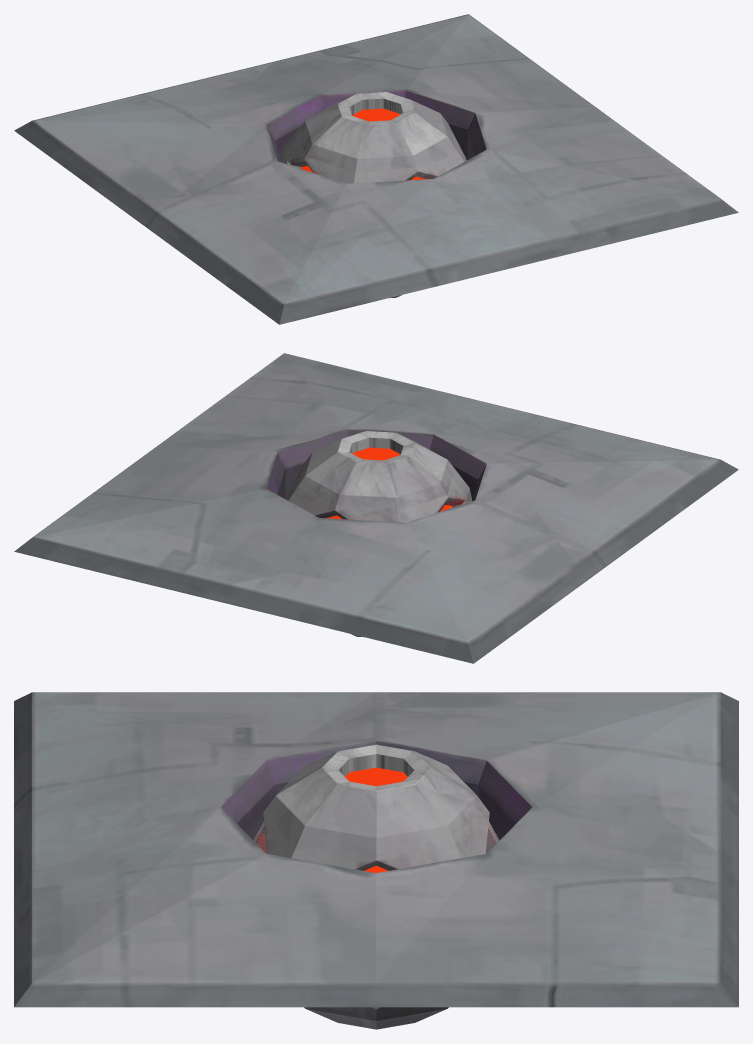
Rendered from tile_minev1.fbx.
3 views of the same model, one above another, from view 1: azimuth 30°, elevation 25°; view 2: azimuth 150°, elevation 25°; view 3: azimuth 270°, elevation 25° (orthographic). The views are drawn at different scales.
Parts seen in each view (by area): view 1: tile_mine, mine, mine_light; view 2: tile_mine, mine, mine_light; view 3: tile_mine, mine, mine_light.
Part boxes in pixels (bbox=[...]): tile_mine: bbox=[14, 14, 738, 324]; mine: bbox=[281, 92, 466, 298]; mine_light: bbox=[301, 108, 425, 180]; tile_mine: bbox=[14, 353, 738, 663]; mine: bbox=[286, 431, 471, 637]; mine_light: bbox=[327, 447, 451, 519]; tile_mine: bbox=[14, 692, 738, 1007]; mine: bbox=[253, 744, 499, 1029]; mine_light: bbox=[345, 767, 407, 872].
Bounding box in the file's own units: 0.02 × 0.0073 × 0.02.
